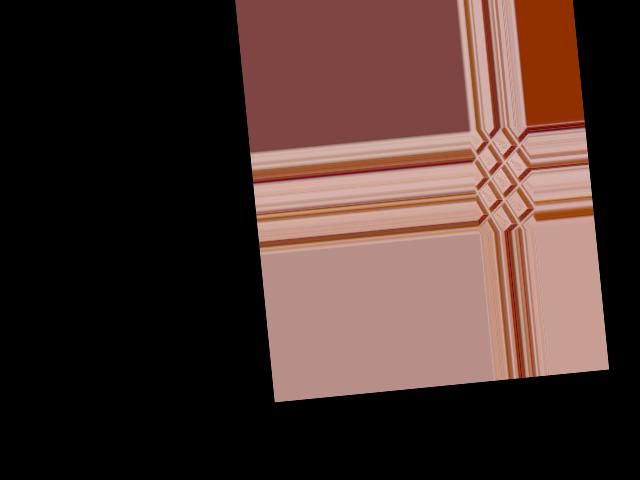chocolate: (471, 128, 537, 233)
